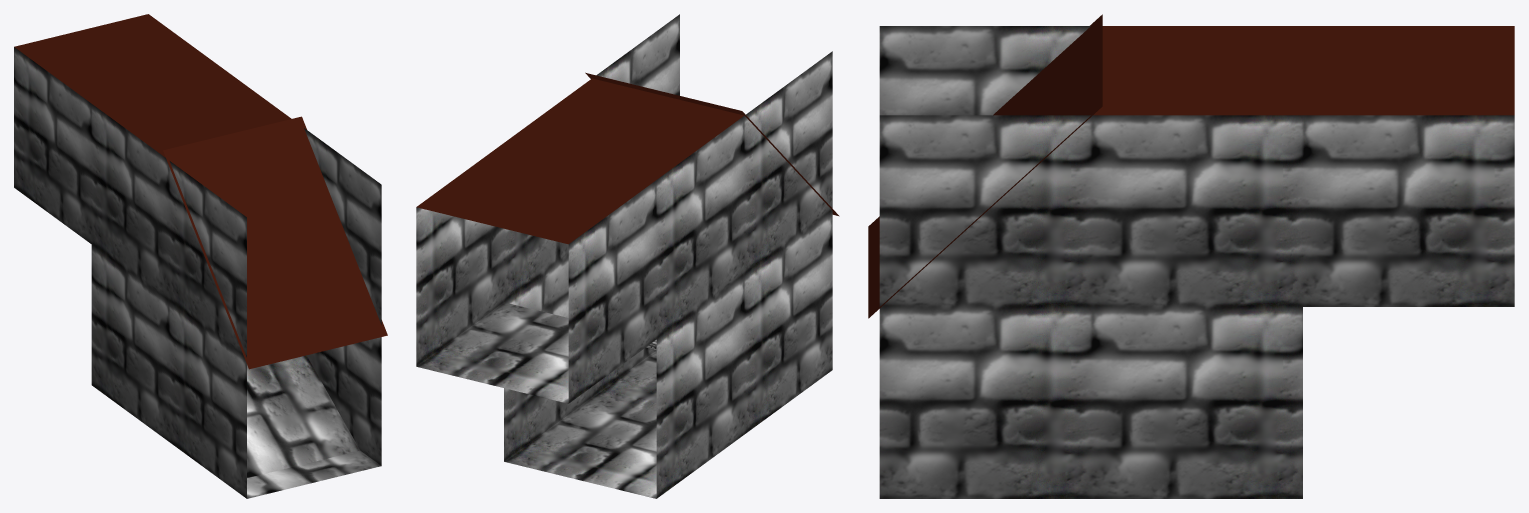
File: castle_R1.fbx
3 views of the same model, side by side, from view 1: azimuth 30°, elevation 25°; view 2: azimuth 150°, elevation 25°; view 3: azimuth 270°, elevation 25° (orthographic). The views are drawn at different scales.
Parts seen in each view (by area): view 1: Plane.123; view 2: Plane.123; view 3: Plane.123.
Boxes of the visible parts, box(x1,y1,x2,y2) form: Plane.123: box(14, 14, 387, 498); Plane.123: box(416, 14, 839, 498); Plane.123: box(868, 14, 1514, 498).
Size of the model in its own units: 413 by 822 by 1222.
Materials: 2 (1 with a texture image).
